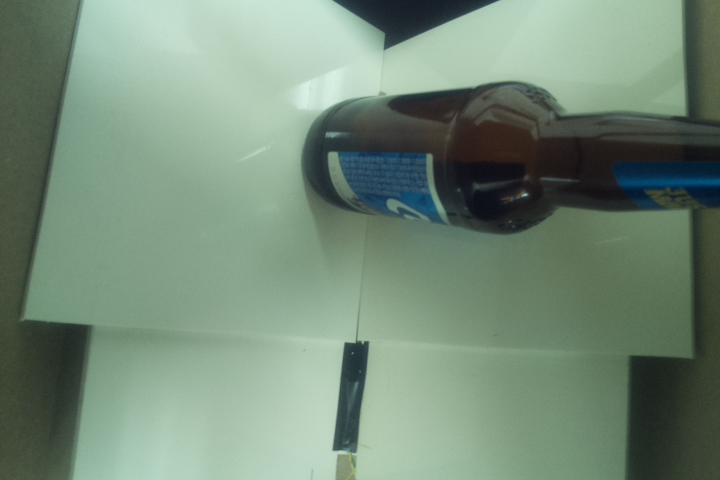makju: (299, 77, 720, 237)
